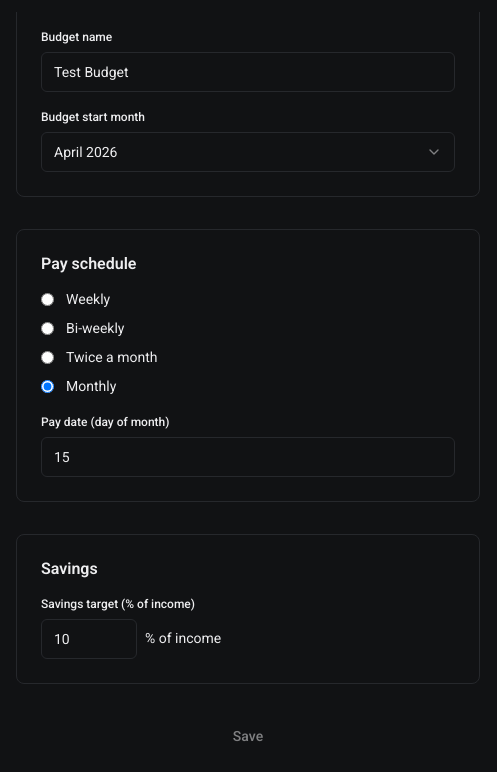
Test case: SettingsPage › shows friendly error message when upsertSettings rejects
(page scrolled)
Note: Change savings target to make form dirty (required to enable Save)
Replace the text in the number field with test id "savings-target-input" with "20" at (89, 639), box [41,619,137,659]
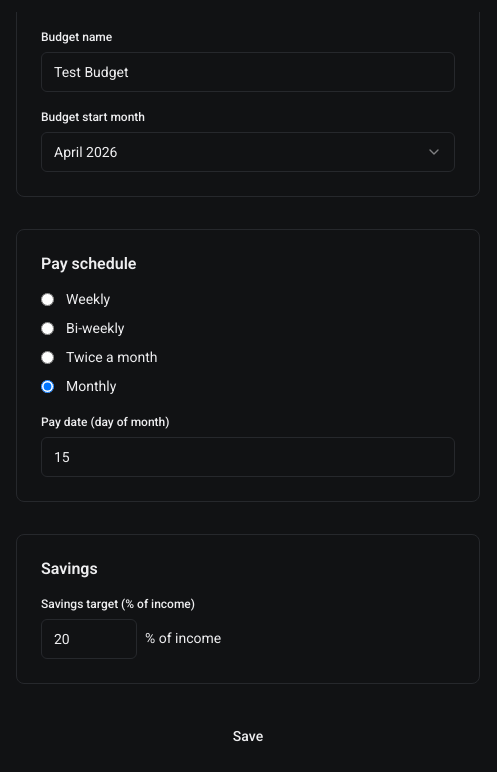
Click the button with test id "save-settings-button" at (248, 736), box [16,716,480,756]
(page scrolled)
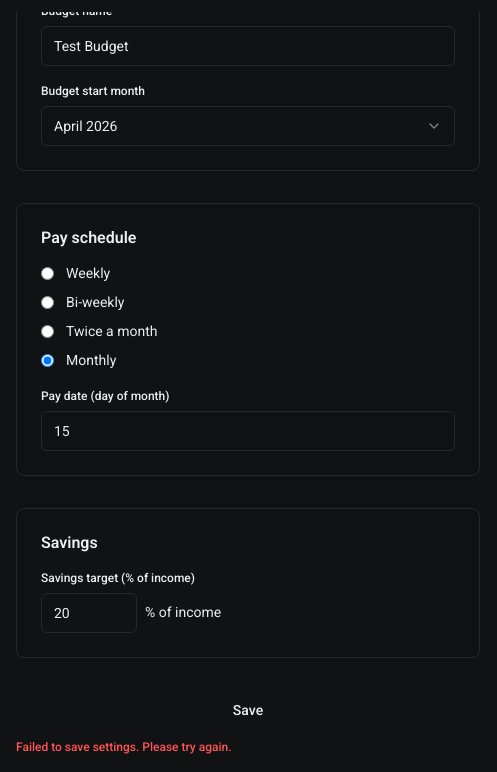
expect the text "Failed to save settings. Please try again." is shown: met, box [16,740,232,754]
